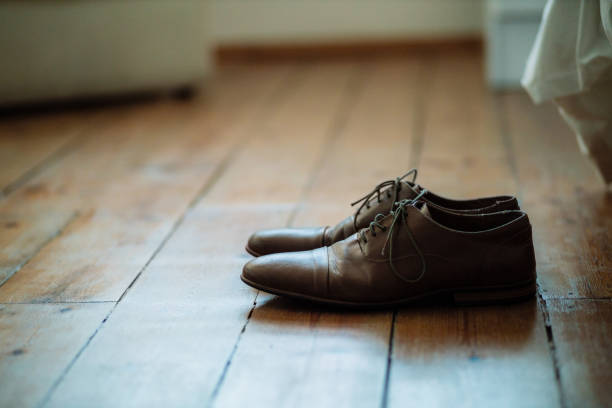Footwear: (239, 175, 546, 318)
